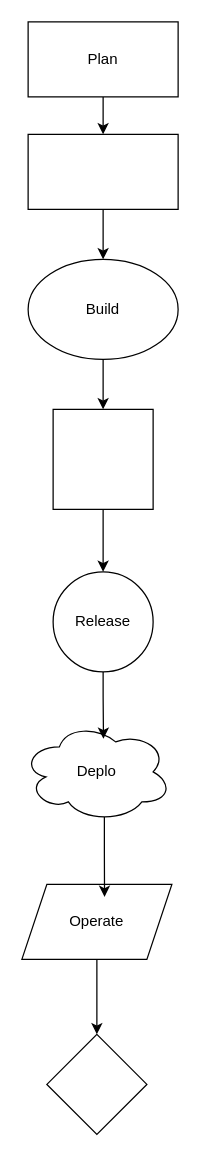
Some shapes in this 200 by 1156 pixel diagram are drawn without their labels. Here are the shapes that lost their labels. From the top down, the centre of each, then its label:
At point (102, 171): "Develope".
At point (102, 458): "Test".
At point (96, 1083): "Monitor".
